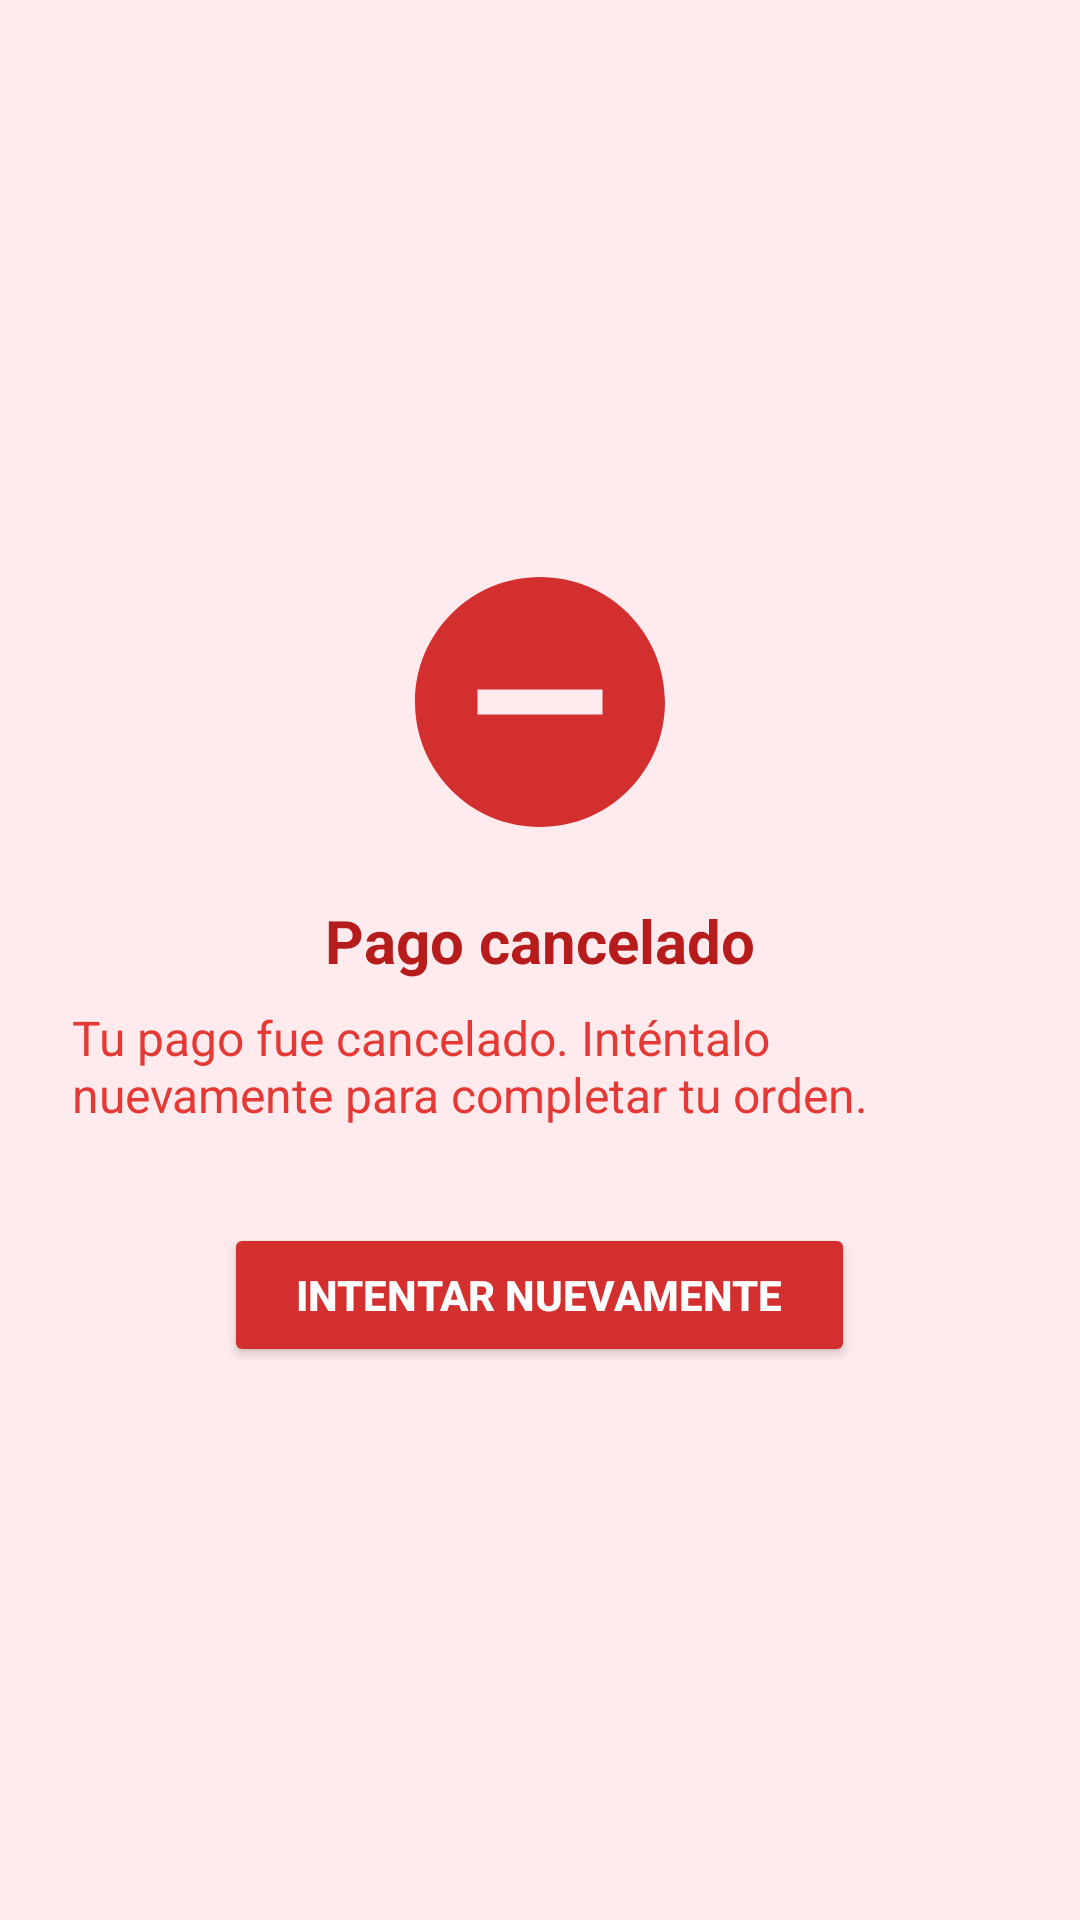

Screen size 1080x1920. Icon name, then its box in pixels as bbox=[x1, y1, x2, y2]:
Error: bbox=[415, 577, 665, 827]
